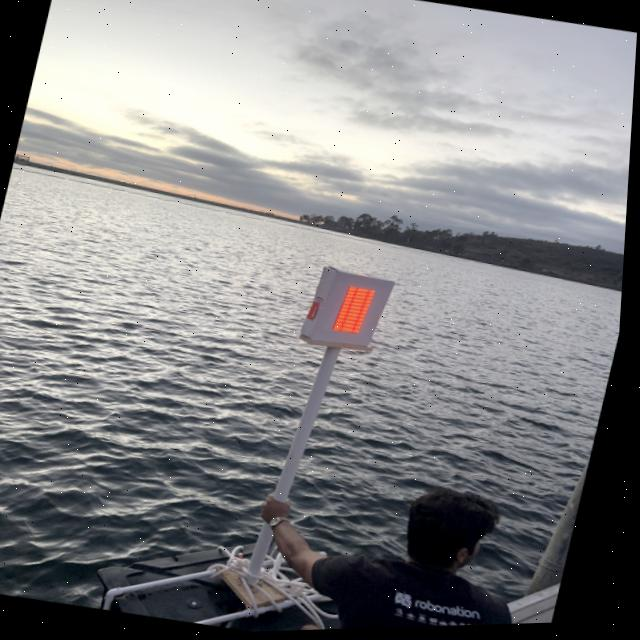led: (324, 272, 388, 355)
